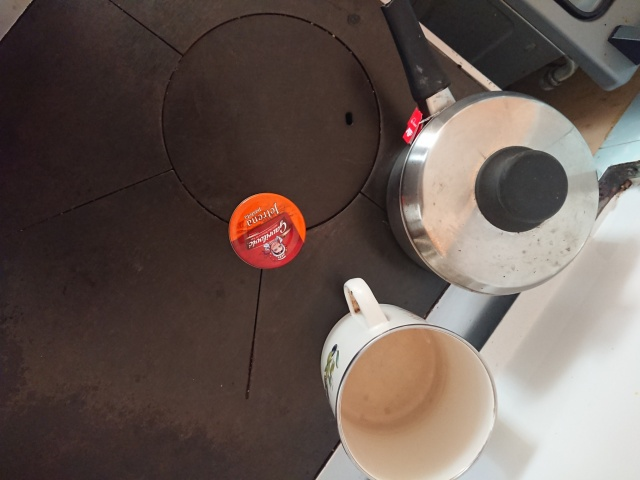Gavrilovic Pork Liver Pate 100g: (225, 190, 308, 272)
